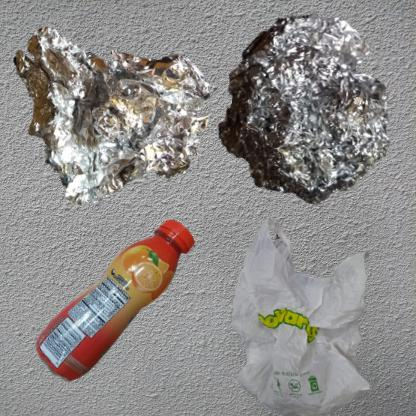aluminio: (10, 10, 223, 213), (213, 10, 392, 209)
bolsa: (213, 213, 407, 416)
botella: (10, 213, 293, 416)
